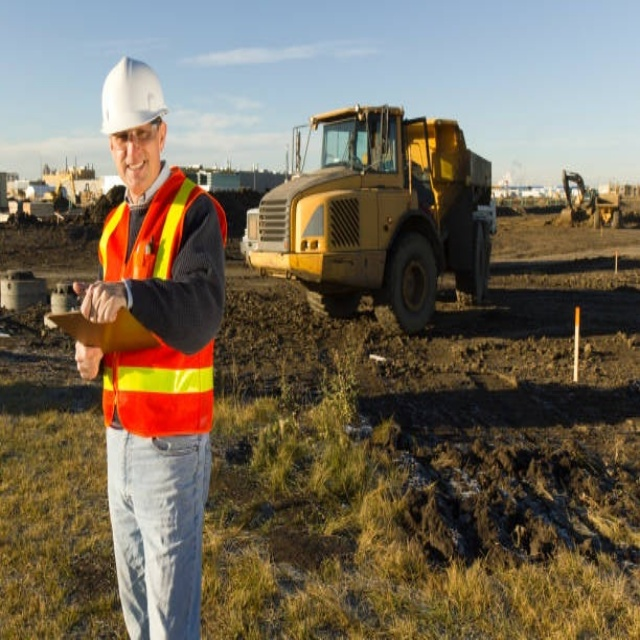Gafas: (111, 122, 160, 149)
Sin_guantes: (72, 276, 129, 325)
Sin_mascara: (120, 154, 152, 187)
